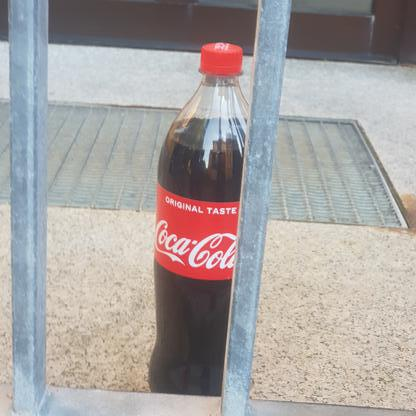coca-cola: (148, 40, 249, 402)
